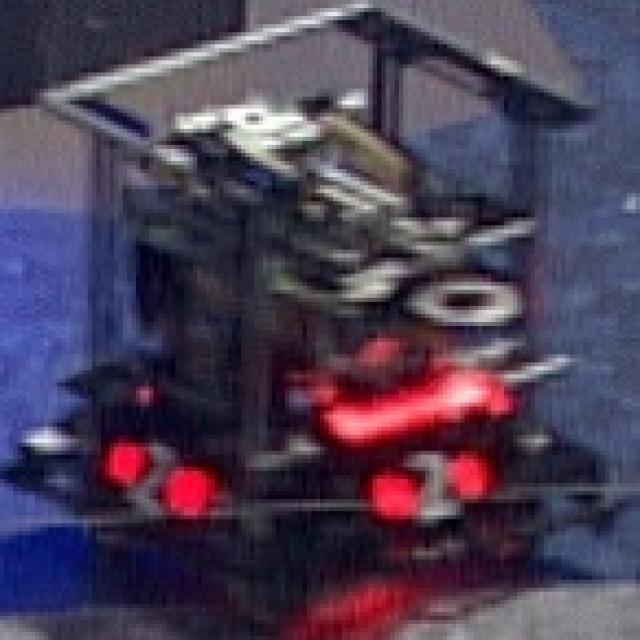R2: (364, 447, 491, 527), (101, 439, 210, 515)
